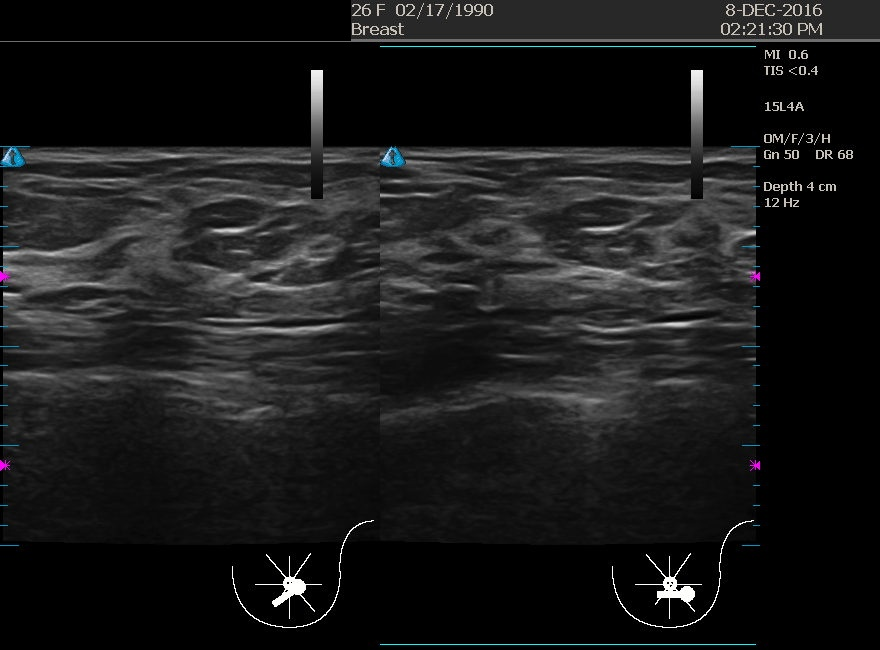BIRADS_3: (135, 200, 335, 400), (490, 151, 690, 351)
